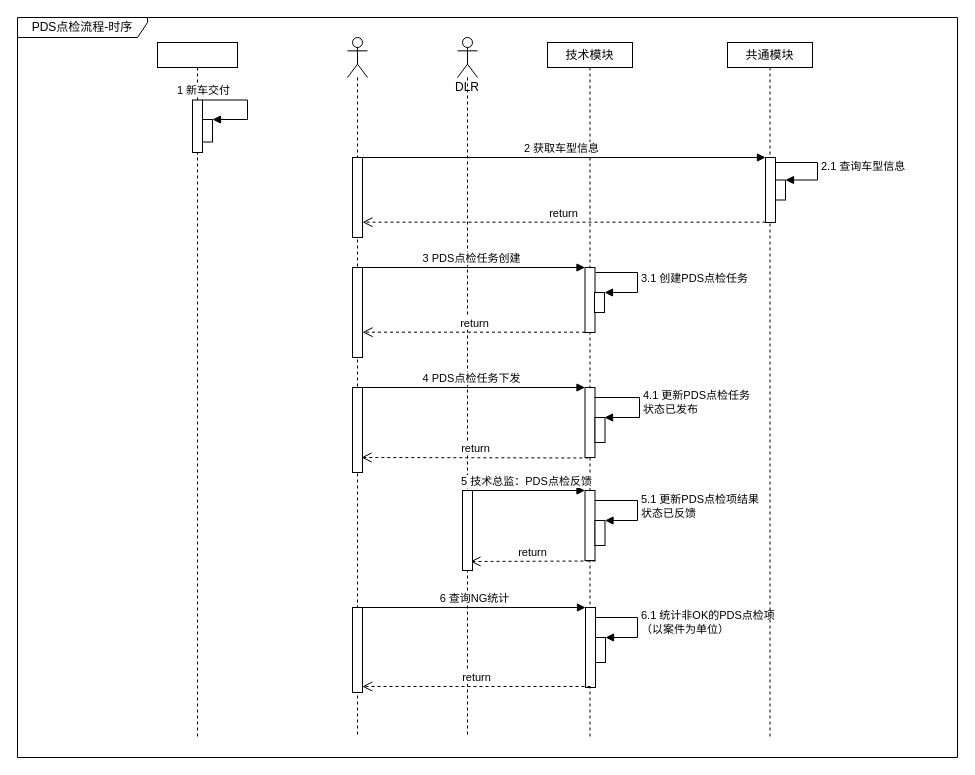
Some shapes in this 975 by 775 pixel diagram are drawn without their labels. Here are the shapes that lost their labels. From the top down, the box of each, then its label:
(156, 42, 238, 738): 销售模块
(346, 36, 368, 738): EDER
